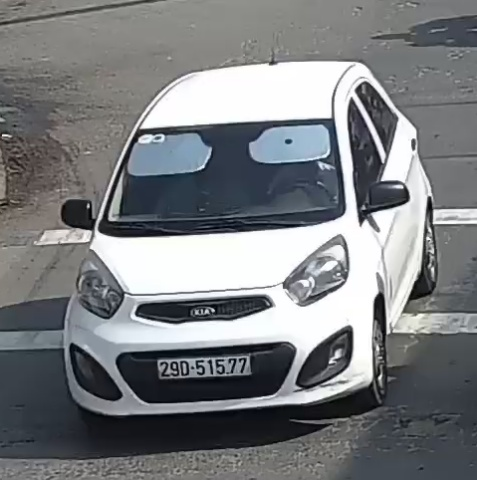vehicle plate: (150, 353, 257, 383)
